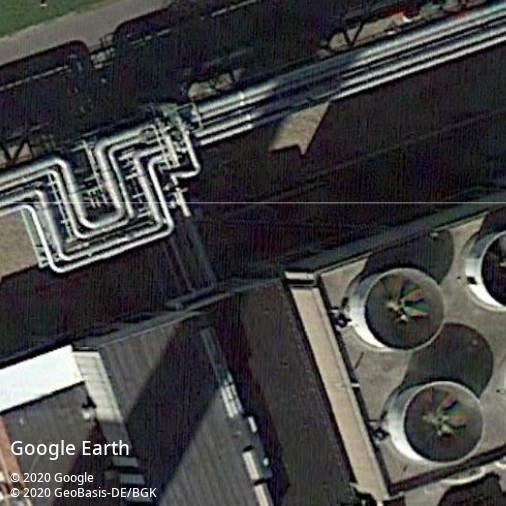Vent: (361, 267, 447, 354), (401, 380, 485, 465)
